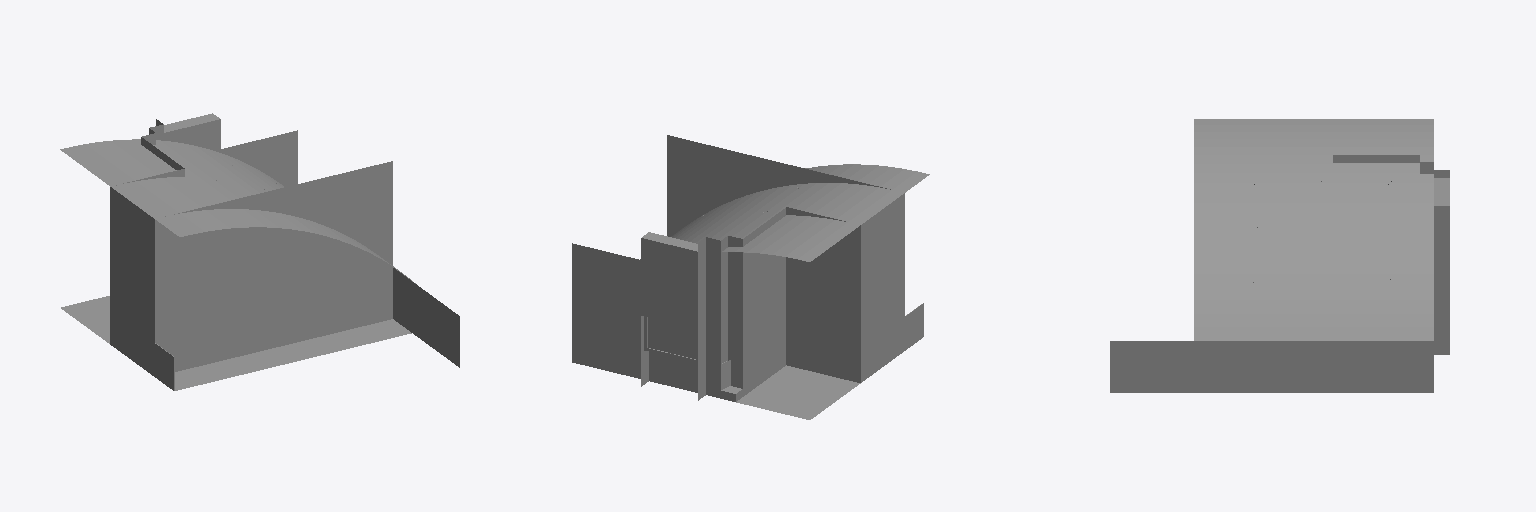
Rendered from bathroom6_layout.obj.
3 views of the same model, side by side, from view 1: azimuth 30°, elevation 25°; view 2: azimuth 150°, elevation 25°; view 3: azimuth 270°, elevation 25° (orthographic).
Parts seen in each view (by area): view 1: wall.025, ceiling.1000, wall.026, floor.011, floor.012, wall.024; view 2: wall.026, ceiling.1000, wall.024, wall.025, floor.011, window.011, bench; view 3: ceiling.1000, floor.012, wall.026, bench.
Boxes of the visible parts, x1=… form: wall.025: x1=155, y1=161, x2=392, y2=371; ceiling.1000: x1=60, y1=139, x2=415, y2=283; wall.026: x1=110, y1=113, x2=297, y2=375; floor.011: x1=61, y1=296, x2=411, y2=390; floor.012: x1=393, y1=268, x2=459, y2=367; wall.024: x1=110, y1=315, x2=174, y2=390; wall.026: x1=572, y1=193, x2=904, y2=400; ceiling.1000: x1=640, y1=164, x2=929, y2=261; wall.024: x1=572, y1=303, x2=923, y2=398; wall.025: x1=667, y1=135, x2=890, y2=236; floor.011: x1=736, y1=365, x2=860, y2=419; window.011: x1=644, y1=316, x2=702, y2=363; bench: x1=572, y1=347, x2=623, y2=373; ceiling.1000: x1=1194, y1=119, x2=1433, y2=340; floor.012: x1=1110, y1=341, x2=1433, y2=392; wall.026: x1=1333, y1=155, x2=1449, y2=354; bench: x1=1253, y1=378, x2=1433, y2=392.
Bounding box in the file's own units: 7.22 × 4.58 × 8.93.